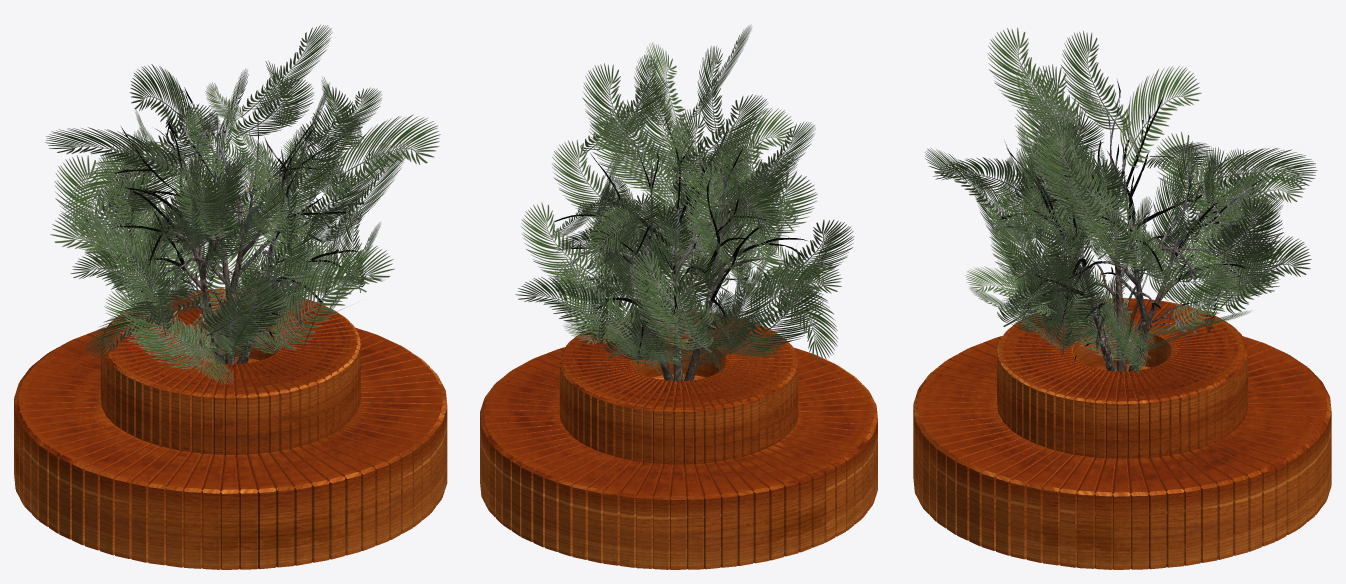
The picture shows the model from 3 angles, left to right: view 1: azimuth 30°, elevation 25°; view 2: azimuth 150°, elevation 25°; view 3: azimuth 270°, elevation 25°; orthographic projection. The views are drawn at different scales.
Parts seen in each view (by area): view 1: Treepot, leaves, tree; view 2: Treepot, leaves, tree; view 3: Treepot, leaves, tree.
Part boxes in pixels (x1,y1,x2,y2): Treepot: (14,288,447,569); leaves: (45,24,440,384); tree: (110,87,363,364); Treepot: (480,312,877,569); leaves: (515,25,854,380); tree: (555,115,807,381); Treepot: (913,298,1331,569); leaves: (925,27,1317,373); tree: (1000,79,1265,371).
Size of the model in its own units: 2.02 by 2.44 by 2.02.
3 materials, 3 textured.
